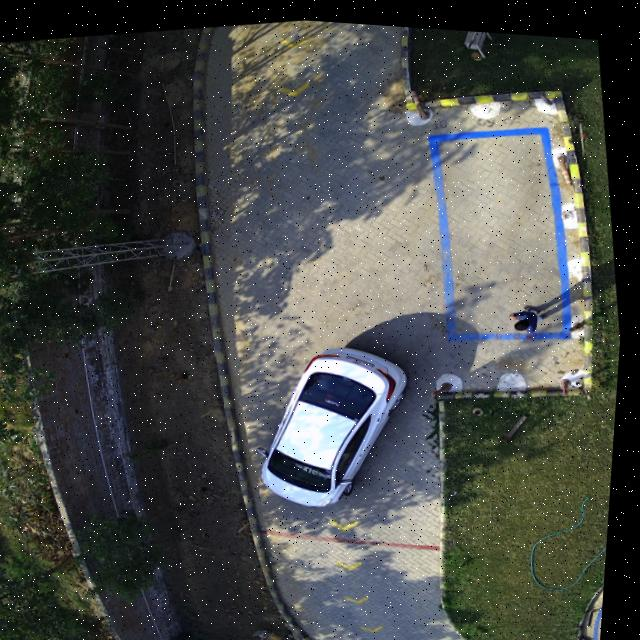car: (262, 341, 412, 501)
